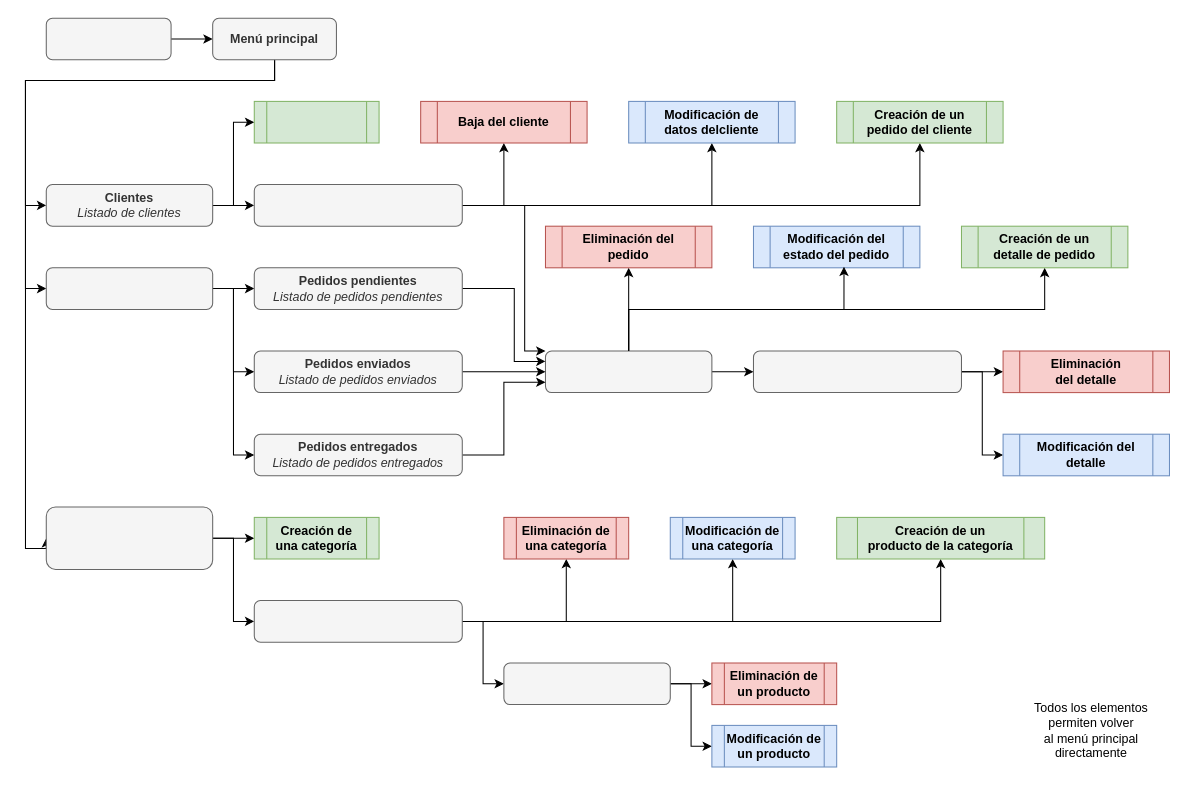
Some shapes in this 1188 by 785 pixel diagram are drawn without their labels. Here are the shapes that lost their labels. From the top down, the box of each, then its label:
(45, 17, 171, 60): Login
(253, 100, 379, 143): Alta de un cliente
(253, 184, 462, 226): Gestión de un cliente Listado de pedidos del cliente
(45, 267, 213, 309): Pedidos Listado todos los pedidos
(544, 350, 712, 393): Gestión de un pedido Listado de detalles
(752, 350, 961, 393): Gestión de un detalle del pedido
(45, 506, 213, 569): Categorías de productos Listado de categorías
(253, 600, 462, 642): Gestión de una categoría Listado de productos
(503, 662, 670, 705): Gestión de un pro ducto
